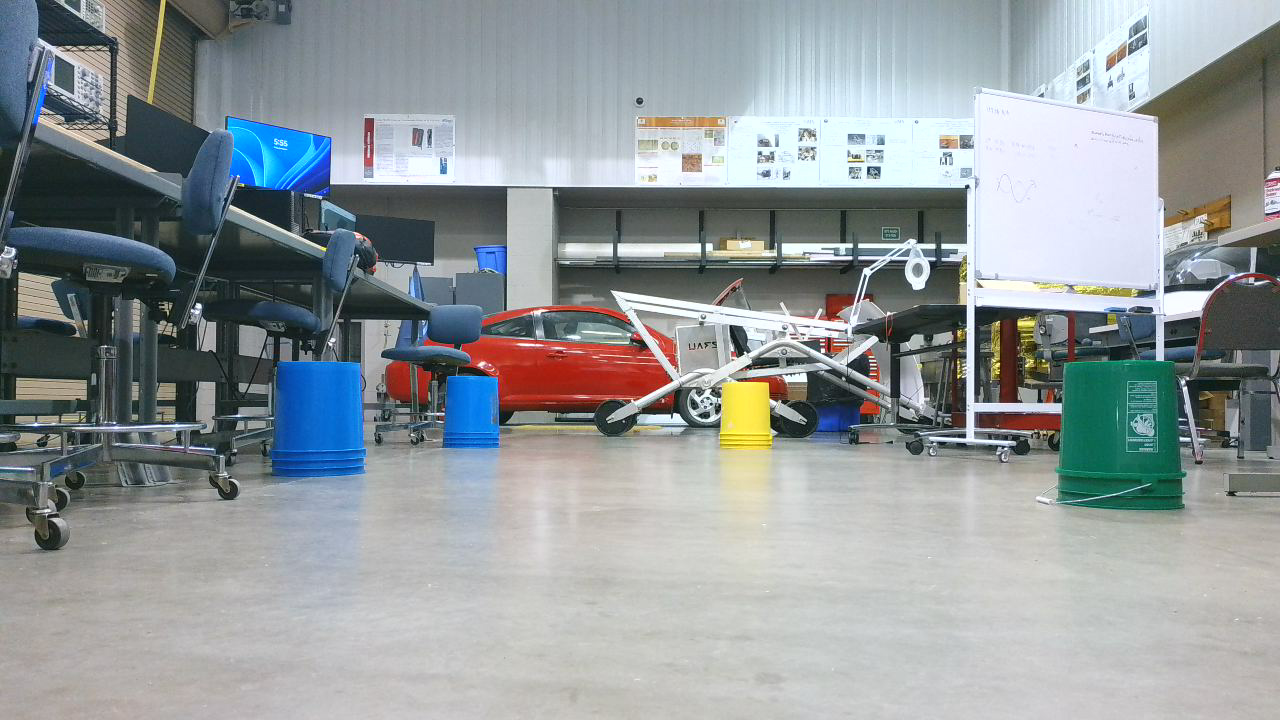blue_bucket: (274, 362, 372, 487), (444, 376, 508, 458)
green_bucket_barrier: (1056, 360, 1194, 520)
yellow_bucket: (722, 383, 782, 460)
